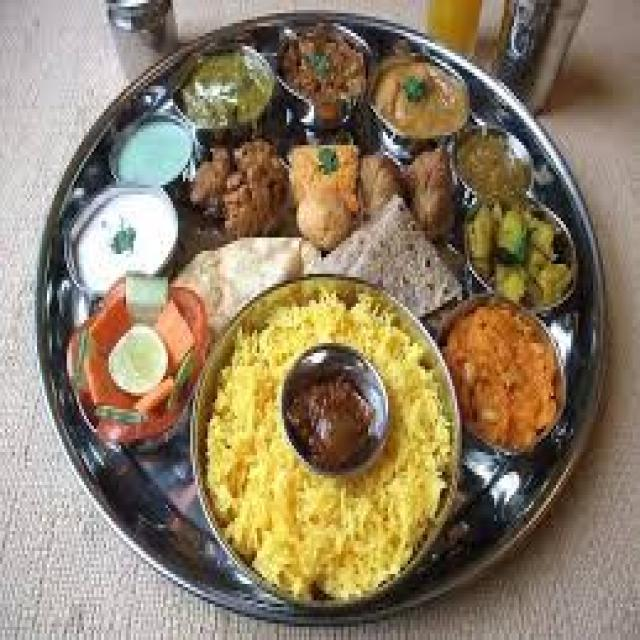curd: (56, 168, 183, 302)
dal: (375, 52, 475, 138)
pickle: (269, 338, 401, 485)
rice: (219, 294, 448, 551)
sweet: (443, 299, 584, 460)
veg-fry: (463, 194, 583, 300)
